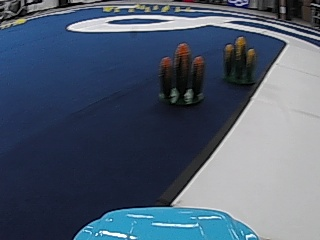corn: (158, 46, 206, 107), (222, 35, 257, 86)
